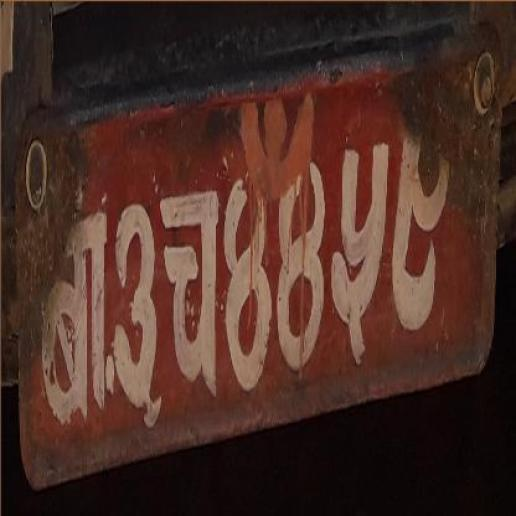3: (114, 201, 159, 429)
4: (223, 175, 272, 393), (277, 156, 325, 376)
5: (331, 138, 388, 362)
9: (392, 121, 449, 349)
ba: (41, 209, 105, 425)
cha: (159, 189, 218, 395)
